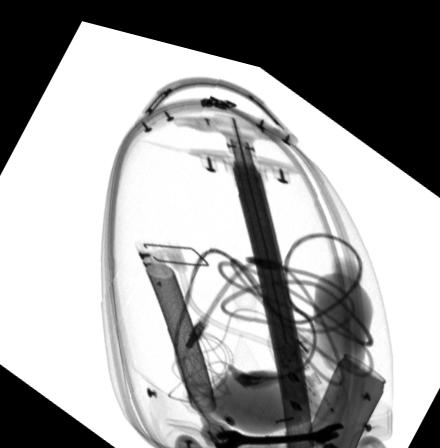Wrench: (213, 403, 343, 437)
